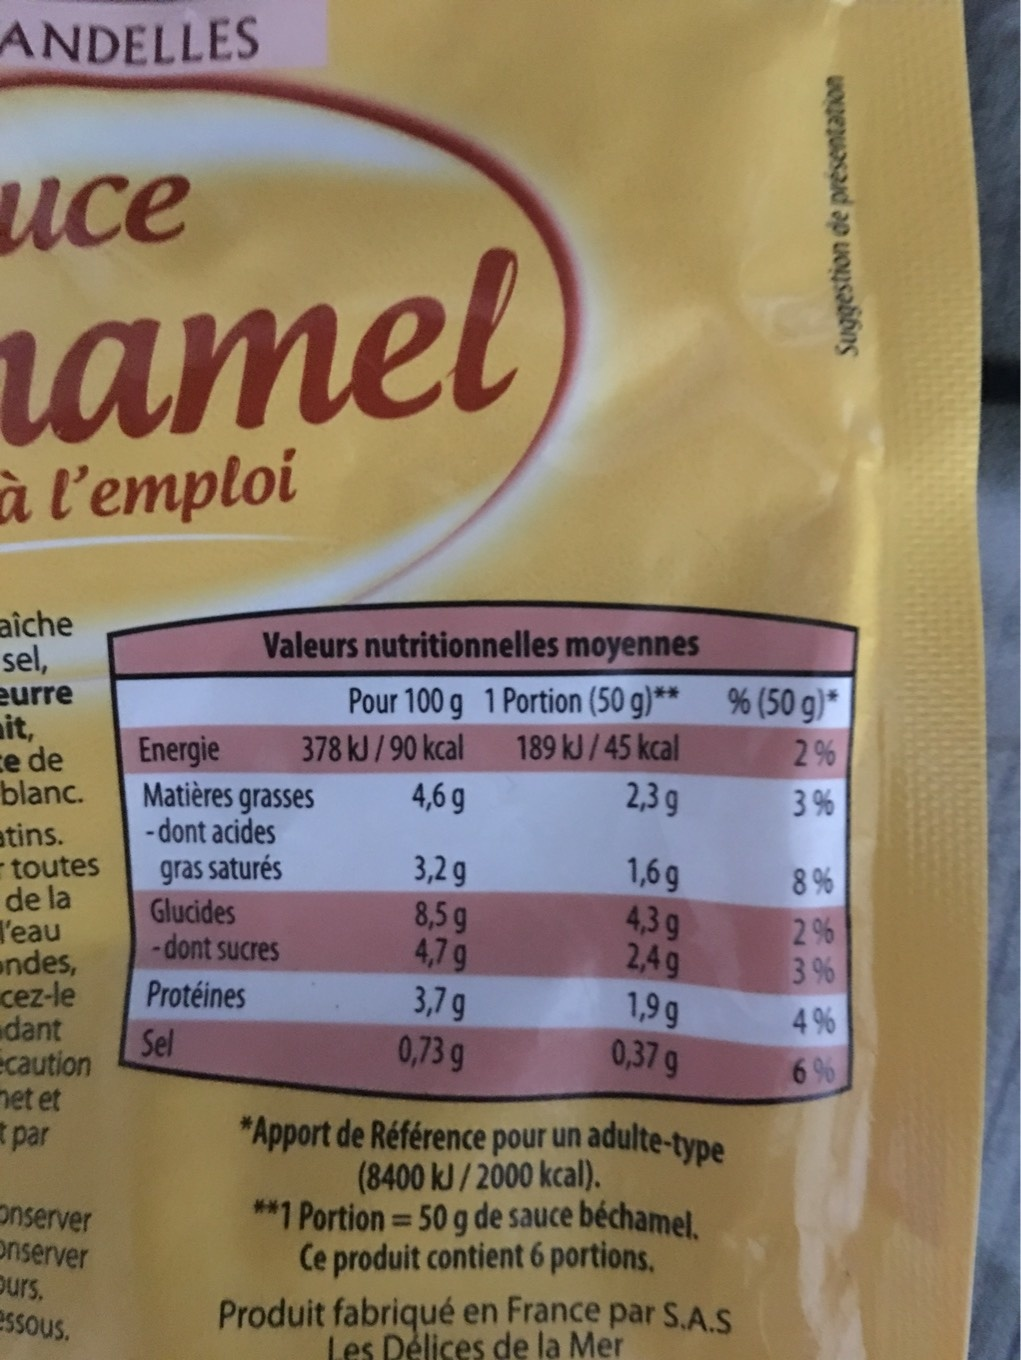column: (133, 677, 468, 1112), (484, 672, 681, 1112), (722, 675, 844, 1110)
table: (102, 597, 859, 1110)
